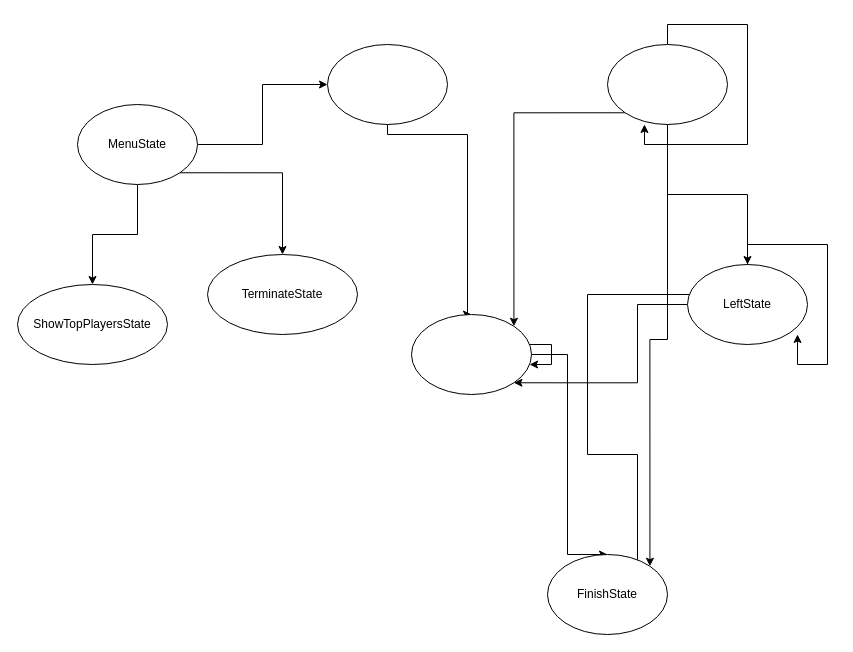
The diagram is 853 pixels wide and 652 high, and some of its shapes have lost their labels. The shapes that lost their labels are listed below. From the top down, each one's centre as x and y in pixels, then its label:
At pixel 387 84: "InitGameState".
At pixel 667 84: "DownState".
At pixel 471 354: "UpState".
